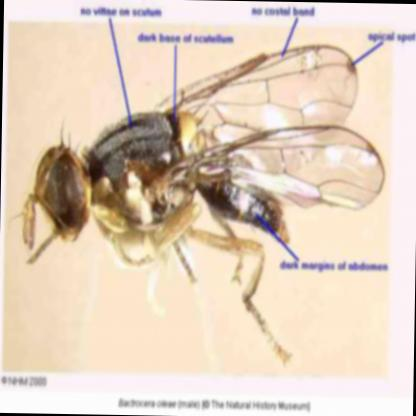fruit fly: (34, 45, 382, 268)
